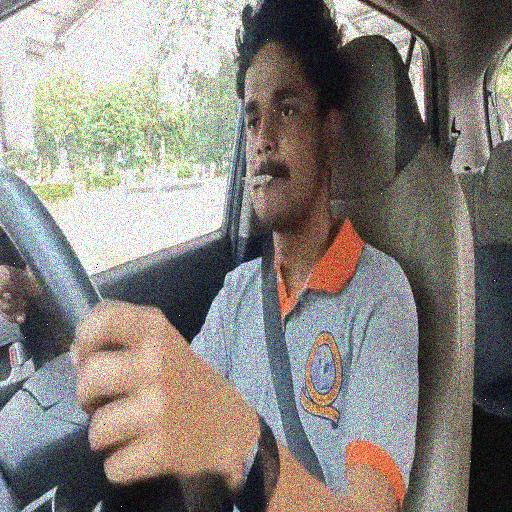Smoking: (89, 35, 420, 512)
